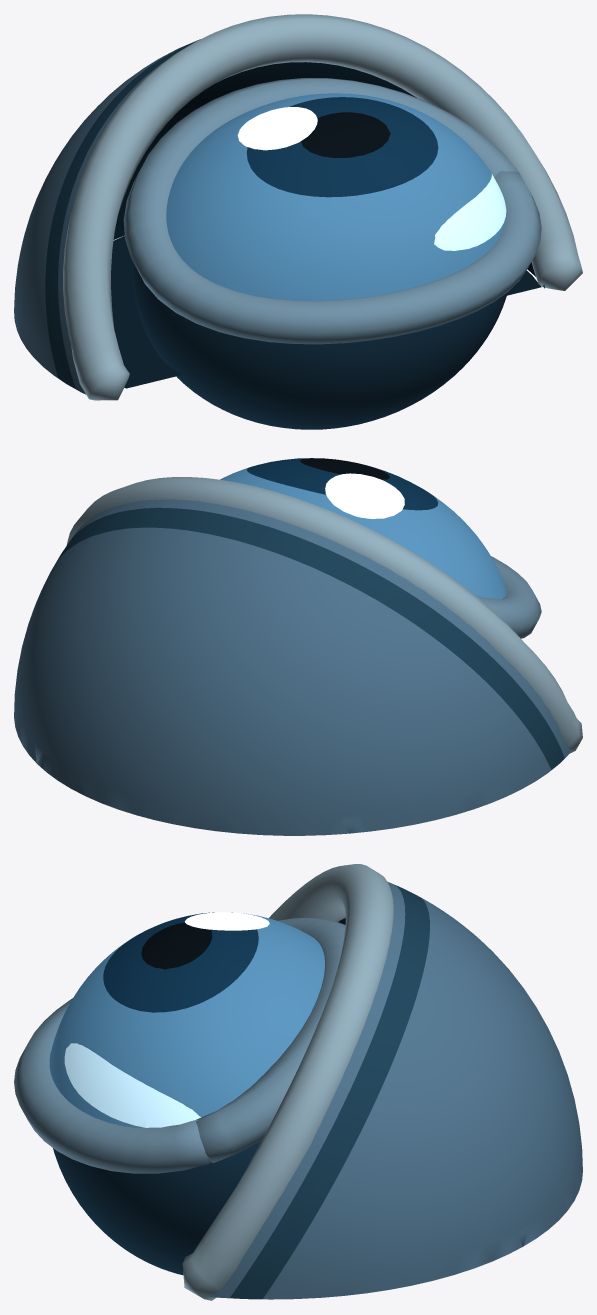
File: eye_shell.glb
3 views of the same model, one above another, from view 1: azimuth 30°, elevation 25°; view 2: azimuth 150°, elevation 25°; view 3: azimuth 270°, elevation 25° (orthographic). The views are drawn at different scales.
Parts seen in each view (by area): view 1: eye, lip, lids, hood, floor, hood_inner; view 2: hood, lip, eye, lids; view 3: hood, eye, lip, lids.
Part boxes in pixels (x1=…): eye: x1=132, y1=93, x2=507, y2=429; lip: x1=63, y1=14, x2=582, y2=400; lids: x1=123, y1=78, x2=541, y2=344; hood: x1=14, y1=39, x2=200, y2=394; floor: x1=111, y1=236, x2=541, y2=388; hood_inner: x1=113, y1=62, x2=544, y2=288; hood: x1=14, y1=499, x2=571, y2=835; lip: x1=66, y1=477, x2=582, y2=753; eye: x1=220, y1=458, x2=506, y2=599; lids: x1=476, y1=556, x2=541, y2=638; hood: x1=210, y1=882, x2=582, y2=1299; eye: x1=49, y1=912, x2=324, y2=1275; lip: x1=182, y1=864, x2=393, y2=1300; lids: x1=14, y1=917, x2=345, y2=1173.
Size of the model in its own units: 14.78 by 9.63 by 13.76.
